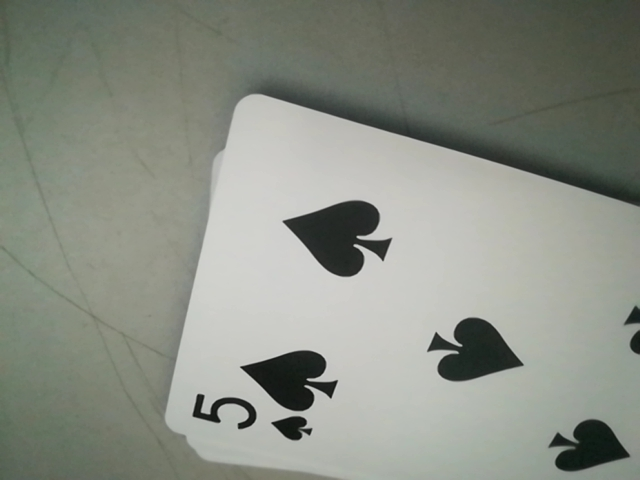ht 5: (182, 393, 328, 449)
